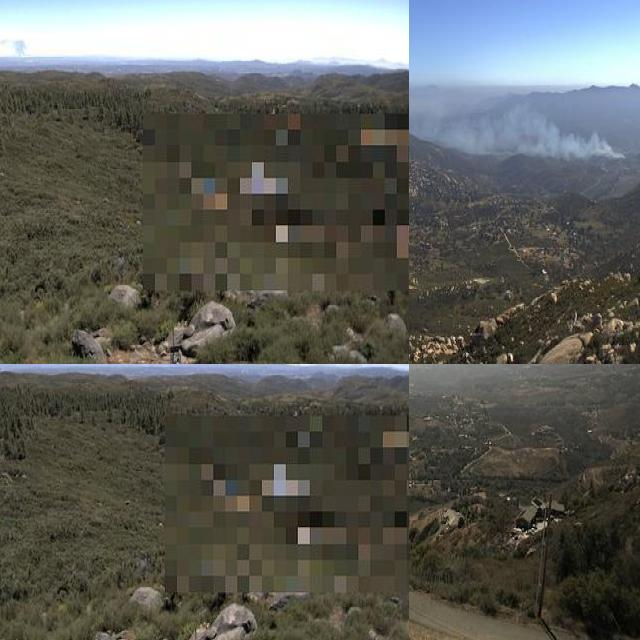smoke: (409, 87, 624, 167), (0, 37, 27, 65)
